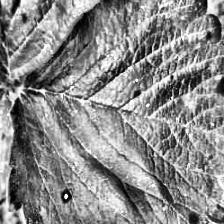Leaf Spot: (5, 0, 224, 224), (0, 0, 110, 79)
